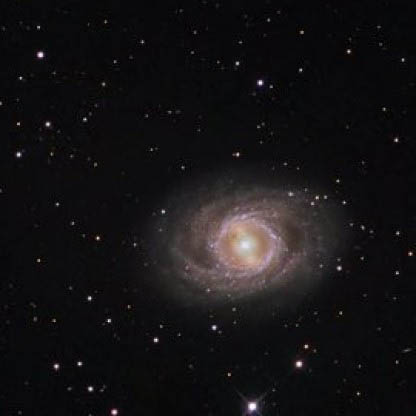Messier 95: (129, 169, 349, 318)
